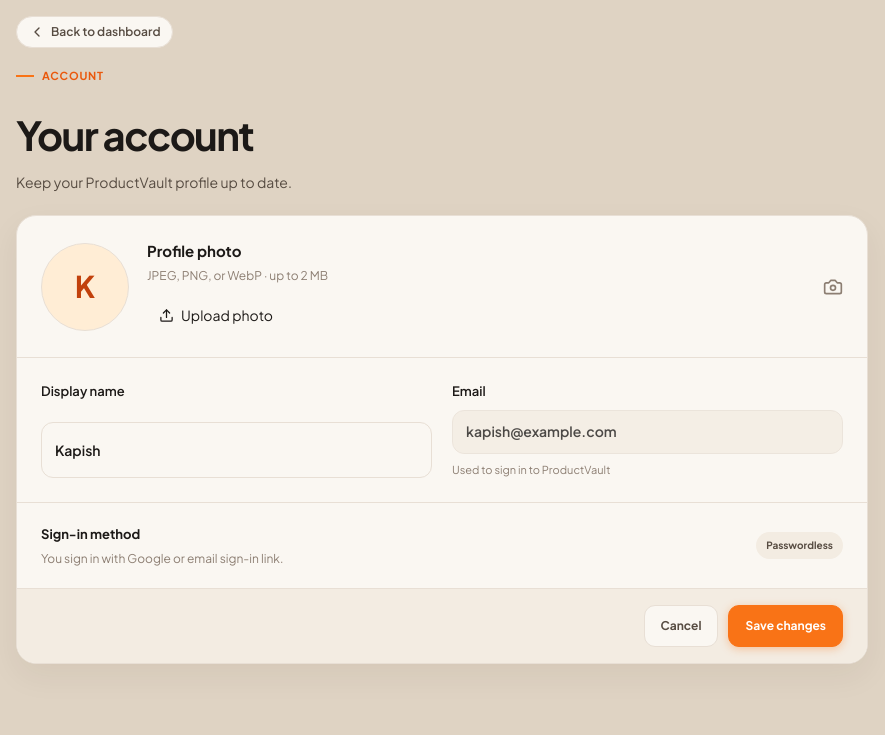
Test: account settings › shows the signed-in email and saves the editable display name
Check: the field showing "kapish@example.com" is disabled, box [452,410,843,454]
Replace the text in the field labelled "Display name" with "Kapish T" at (236, 450), box [41,422,432,478]
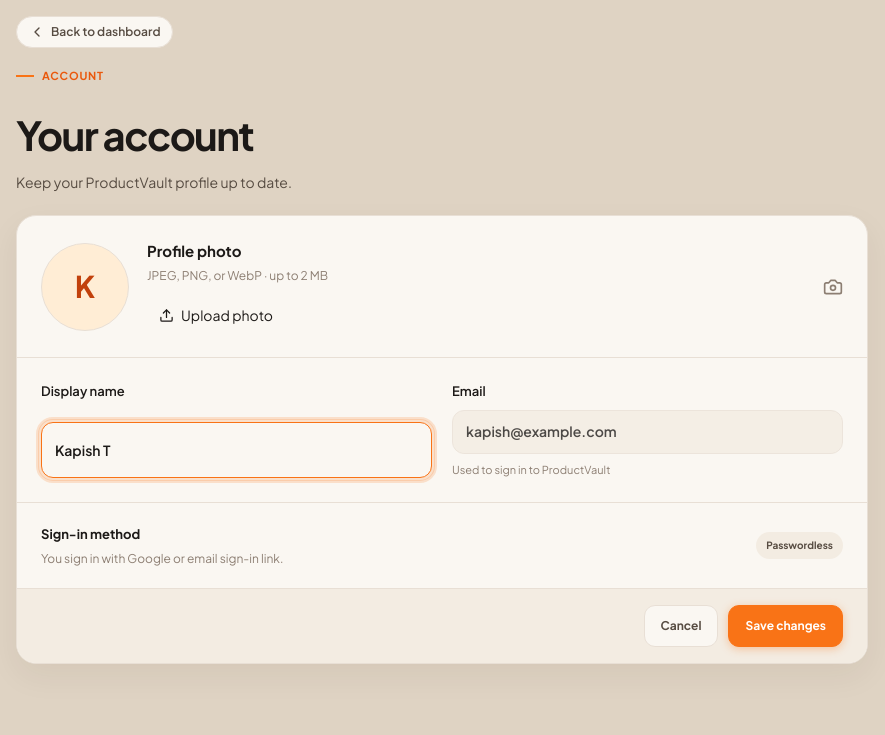
Click the button "Save changes" at (786, 626), box [728,605,843,647]
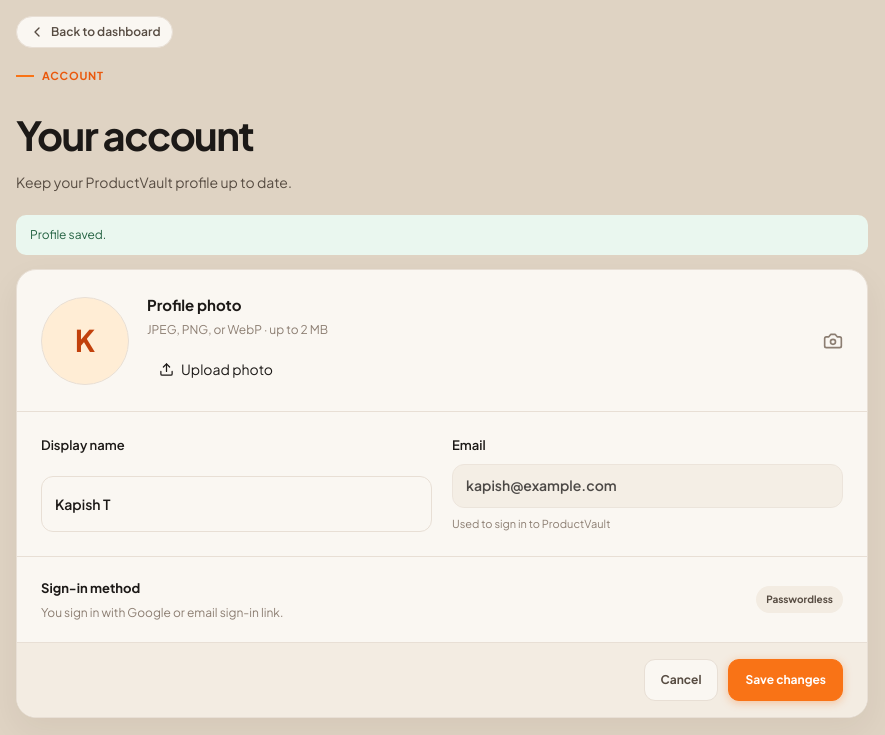
Check: the text "Profile saved." is shown, box [16,215,868,255]
